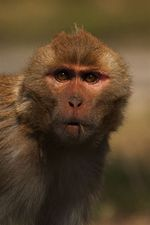monkey: (12, 13, 141, 188)
